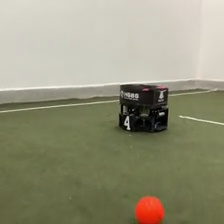ball: (133, 194, 165, 224)
robot: (116, 82, 170, 134)
